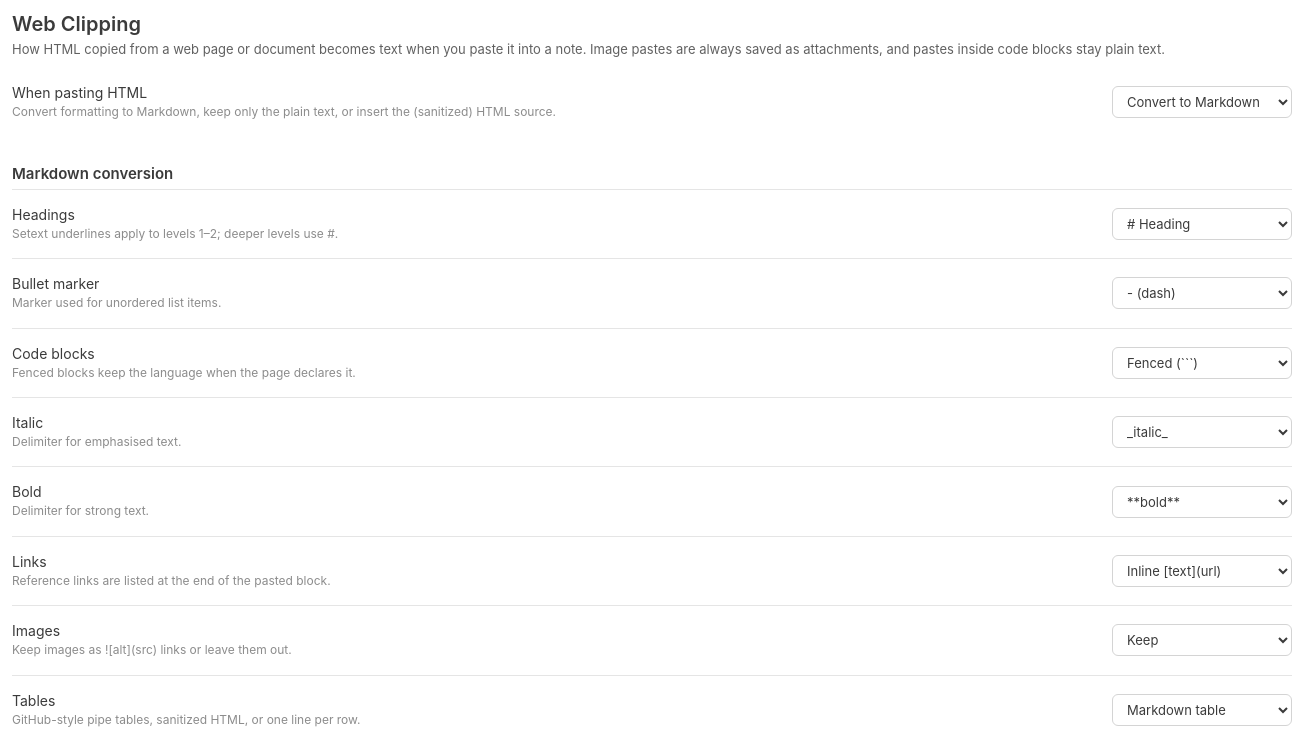
Scenario: ClippingSection › shows an error and refreshes when saving fails
The image size is (1304, 732).
Step 1. Select "Drop" in the dropdown with test id "clipping-images" → x=1202, y=640, box [1112,624,1292,656]
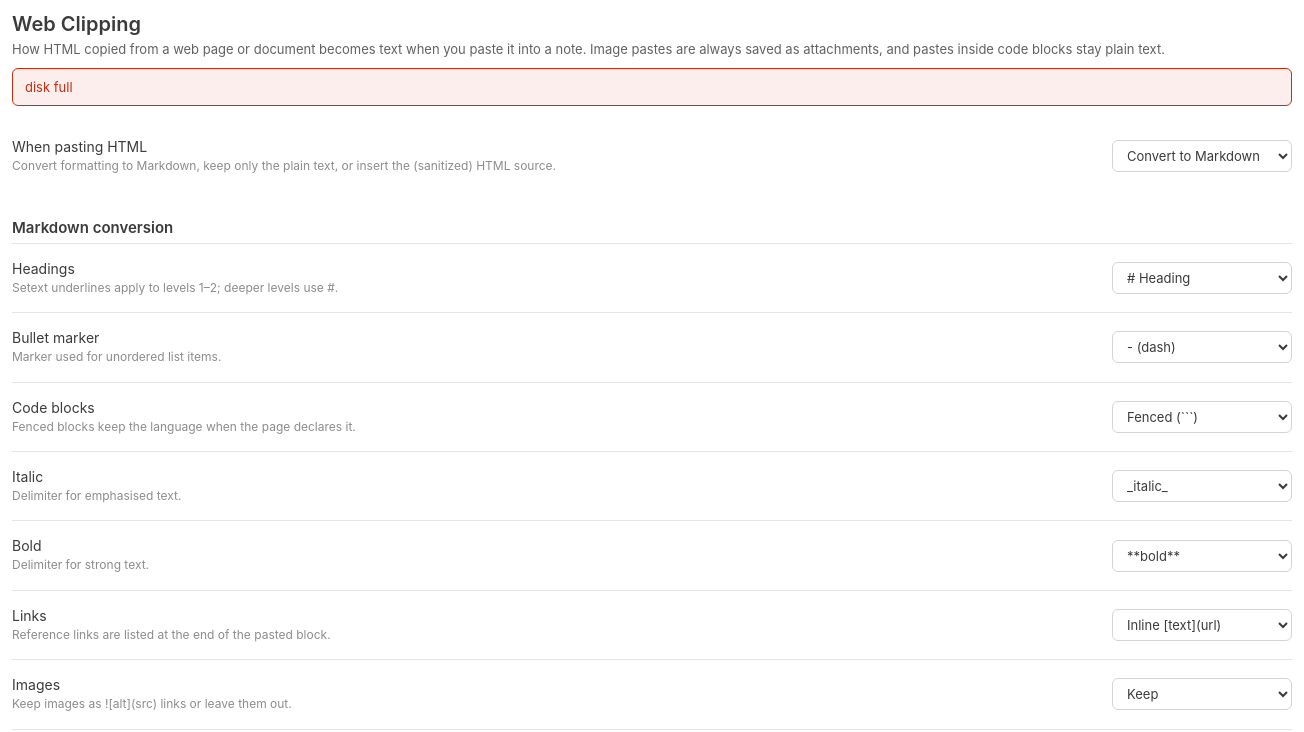
expect the message reads "disk full": met, box [25,78,73,94]
